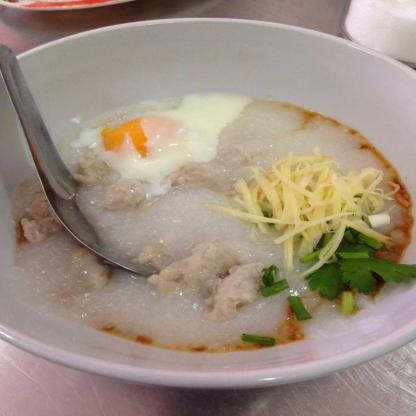Joke: (0, 75, 401, 363)
